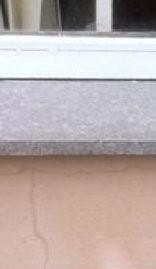crack: (0, 166, 156, 269)
